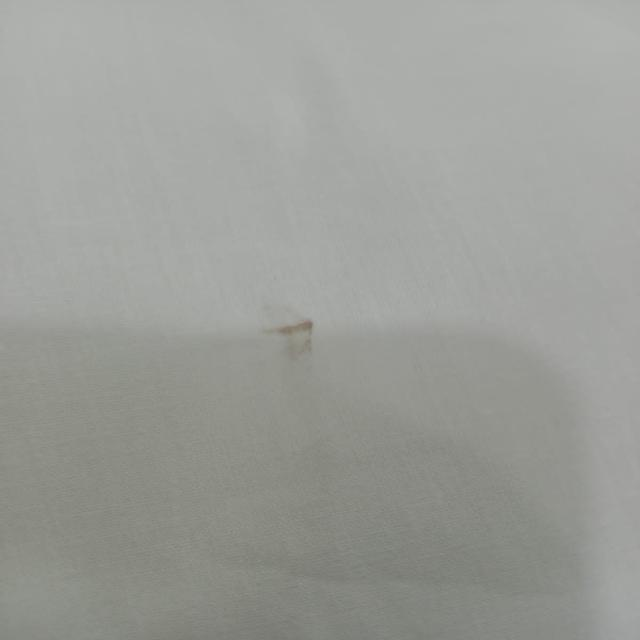stain: (251, 299, 340, 381)
